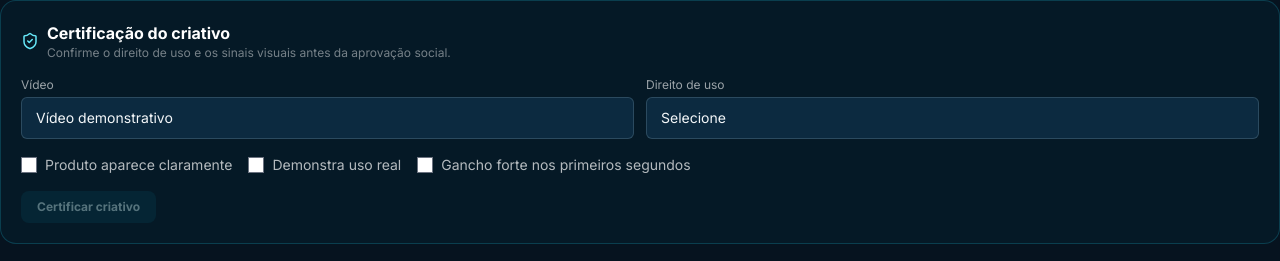
Test: CreativeCertificationPanel › mantém os controles de certificação para um job ready
Check: the dropdown labelled "Vídeo" shows "Vídeo demonstrativo", box [21,97,634,139]
Check: the checkbox labelled "Produto aparece claramente" is shown, box [21,157,37,173]
Select "Vídeo próprio" in the dropdown labelled "Direito de uso". click: (952, 118)
box: [646,97,1259,139]
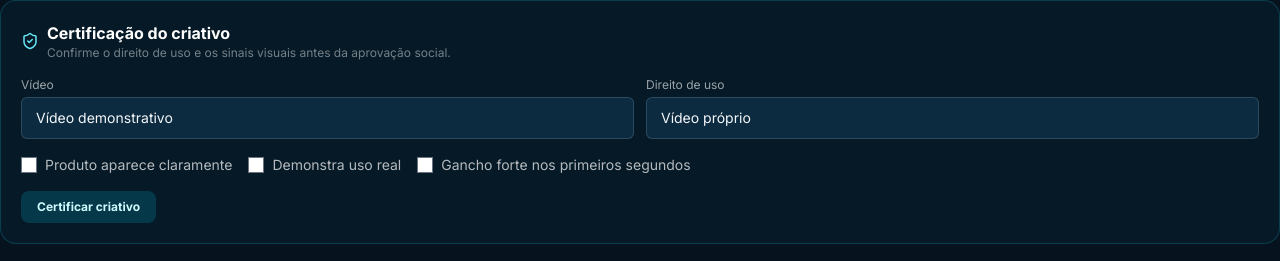
Check: the button "Certificar criativo" is enabled, box [21,191,156,223]
